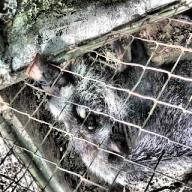boar: (25, 7, 191, 192)
